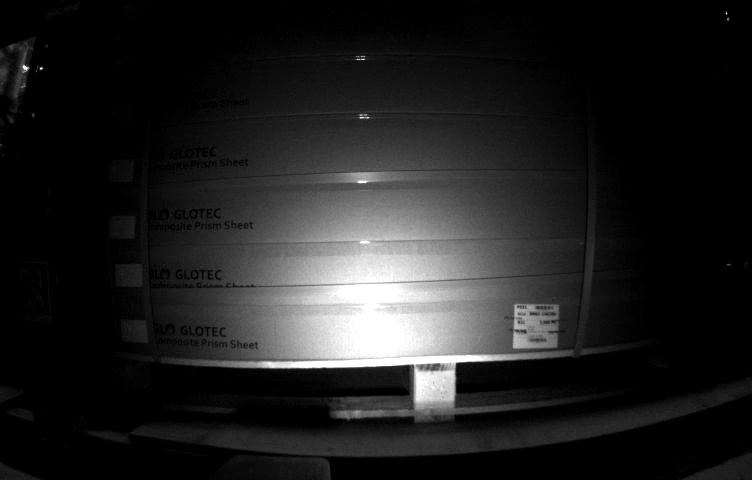True Barcode: (513, 301, 560, 349)
